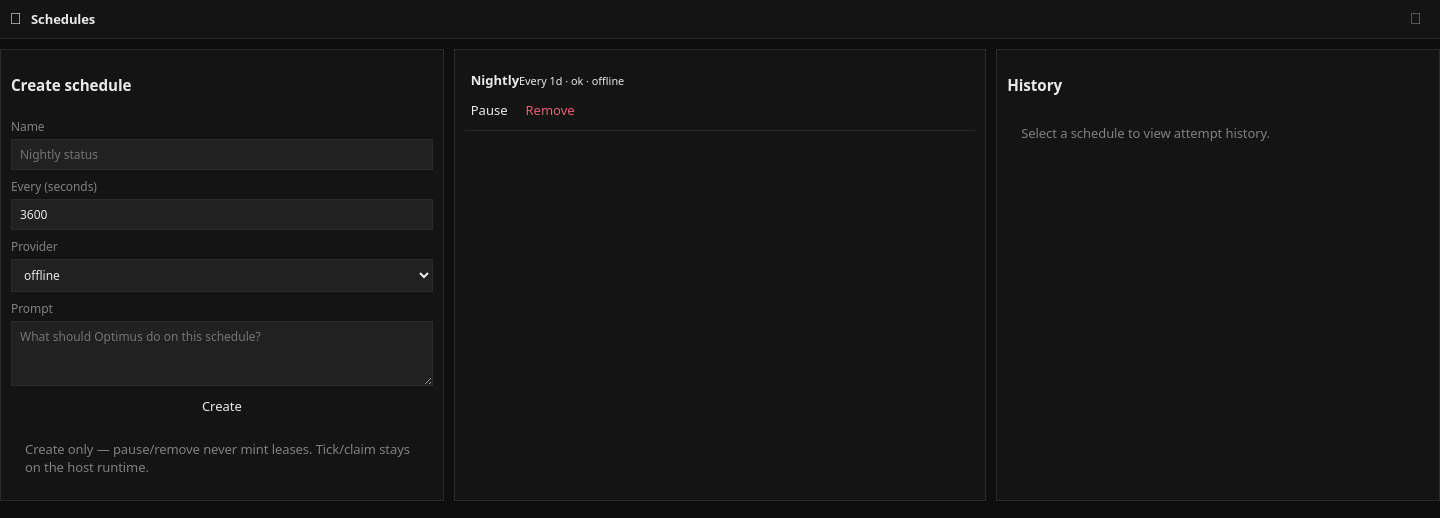
Test: CronWorkbench › lists schedules, pauses, and shows history
expect the text "Nightly" is shown: met, box [471,71,519,89]
Click the button "Pause" at (489,110), box [465,98,514,122]
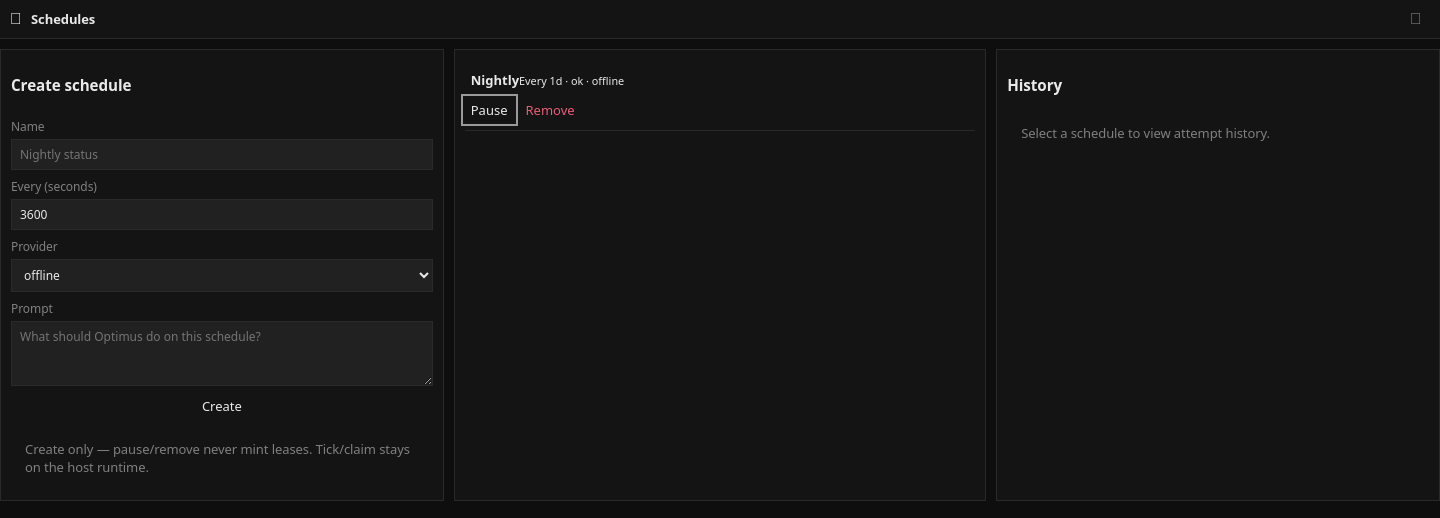
Click the text "Nightly" at (495,80), box [471,71,519,89]
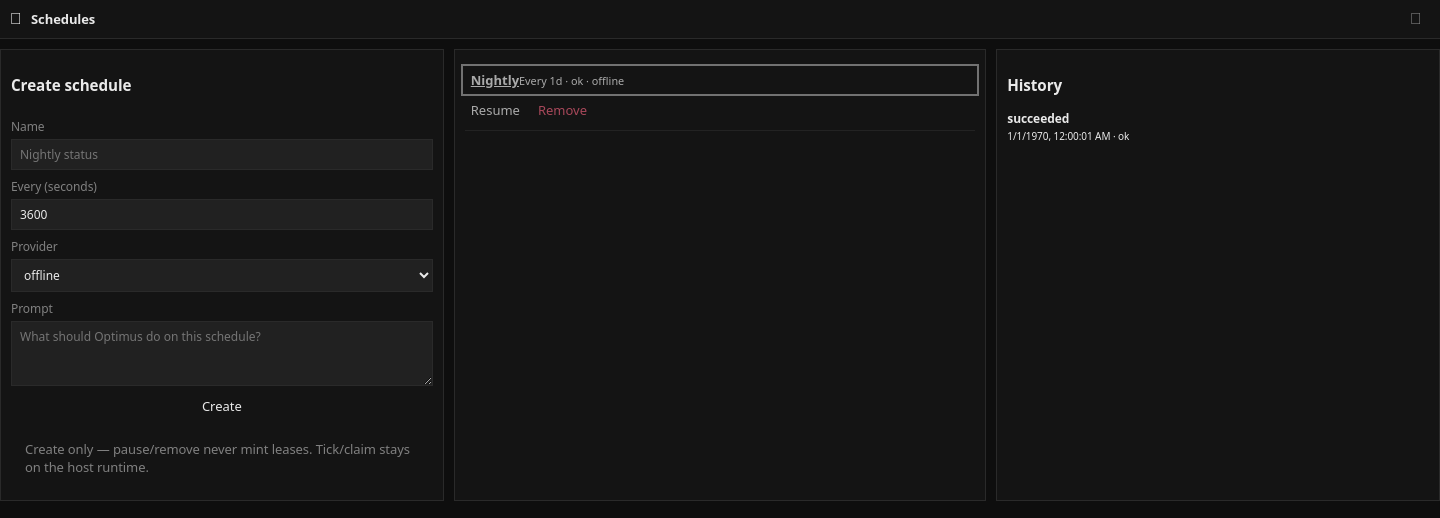
expect the text "succeeded" is shown: met, box [1007,110,1069,127]
